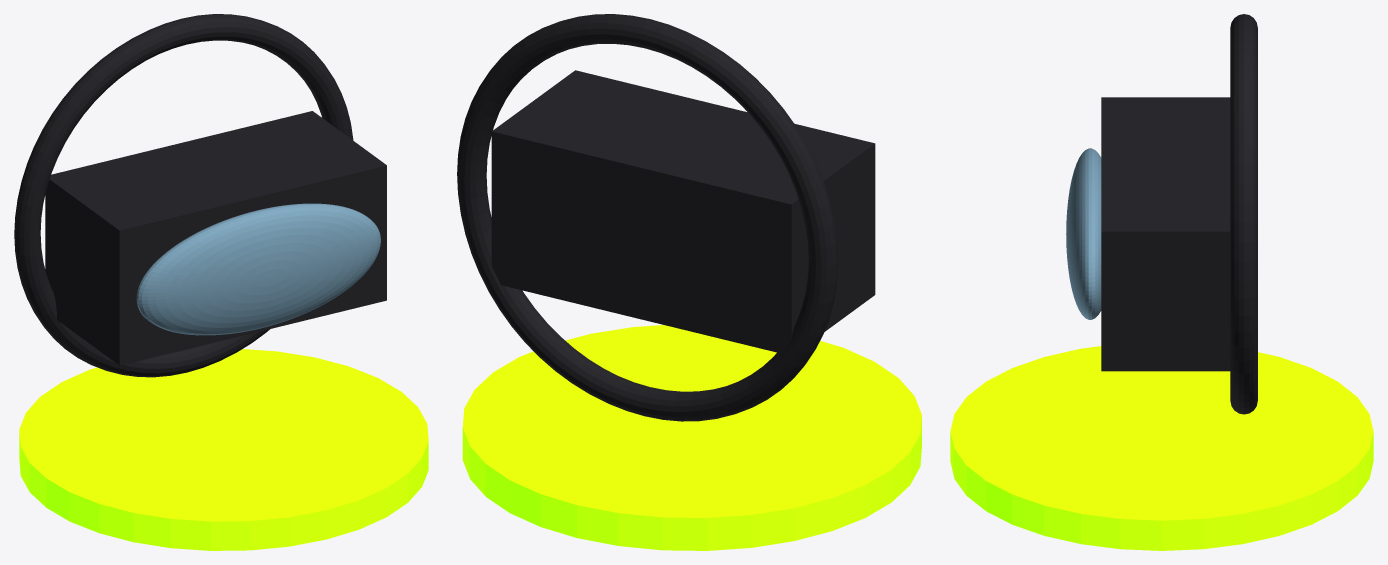
File: tech_vr_headset.glb
3 views of the same model, side by side, from view 1: azimuth 30°, elevation 25°; view 2: azimuth 150°, elevation 25°; view 3: azimuth 270°, elevation 25° (orthographic). The views are drawn at different scales.
Visible parts, largest first — view 1: 08_06_Popular_Tech_VR_Headset_ROOT_base, 08_06_Popular_Tech_VR_Headset_part_01, 08_06_Popular_Tech_VR_Headset_part_02, 08_06_Popular_Tech_VR_Headset_part_03; view 2: 08_06_Popular_Tech_VR_Headset_part_01, 08_06_Popular_Tech_VR_Headset_ROOT_base, 08_06_Popular_Tech_VR_Headset_part_03; view 3: 08_06_Popular_Tech_VR_Headset_ROOT_base, 08_06_Popular_Tech_VR_Headset_part_01, 08_06_Popular_Tech_VR_Headset_part_03, 08_06_Popular_Tech_VR_Headset_part_02.
Boxes of the visible parts, x1,y1,x2,y2 form: 08_06_Popular_Tech_VR_Headset_ROOT_base: (19,349,428,550); 08_06_Popular_Tech_VR_Headset_part_01: (45,111,386,365); 08_06_Popular_Tech_VR_Headset_part_02: (136,203,380,335); 08_06_Popular_Tech_VR_Headset_part_03: (14,14,353,377); 08_06_Popular_Tech_VR_Headset_part_01: (491,70,875,353); 08_06_Popular_Tech_VR_Headset_ROOT_base: (462,325,921,550); 08_06_Popular_Tech_VR_Headset_part_03: (457,14,838,421); 08_06_Popular_Tech_VR_Headset_ROOT_base: (950,346,1373,550); 08_06_Popular_Tech_VR_Headset_part_01: (1101,97,1230,371); 08_06_Popular_Tech_VR_Headset_part_03: (1230,14,1257,414); 08_06_Popular_Tech_VR_Headset_part_02: (1066,148,1101,319).
Size of the model in its own units: 0.76 by 0.85 by 0.76.
